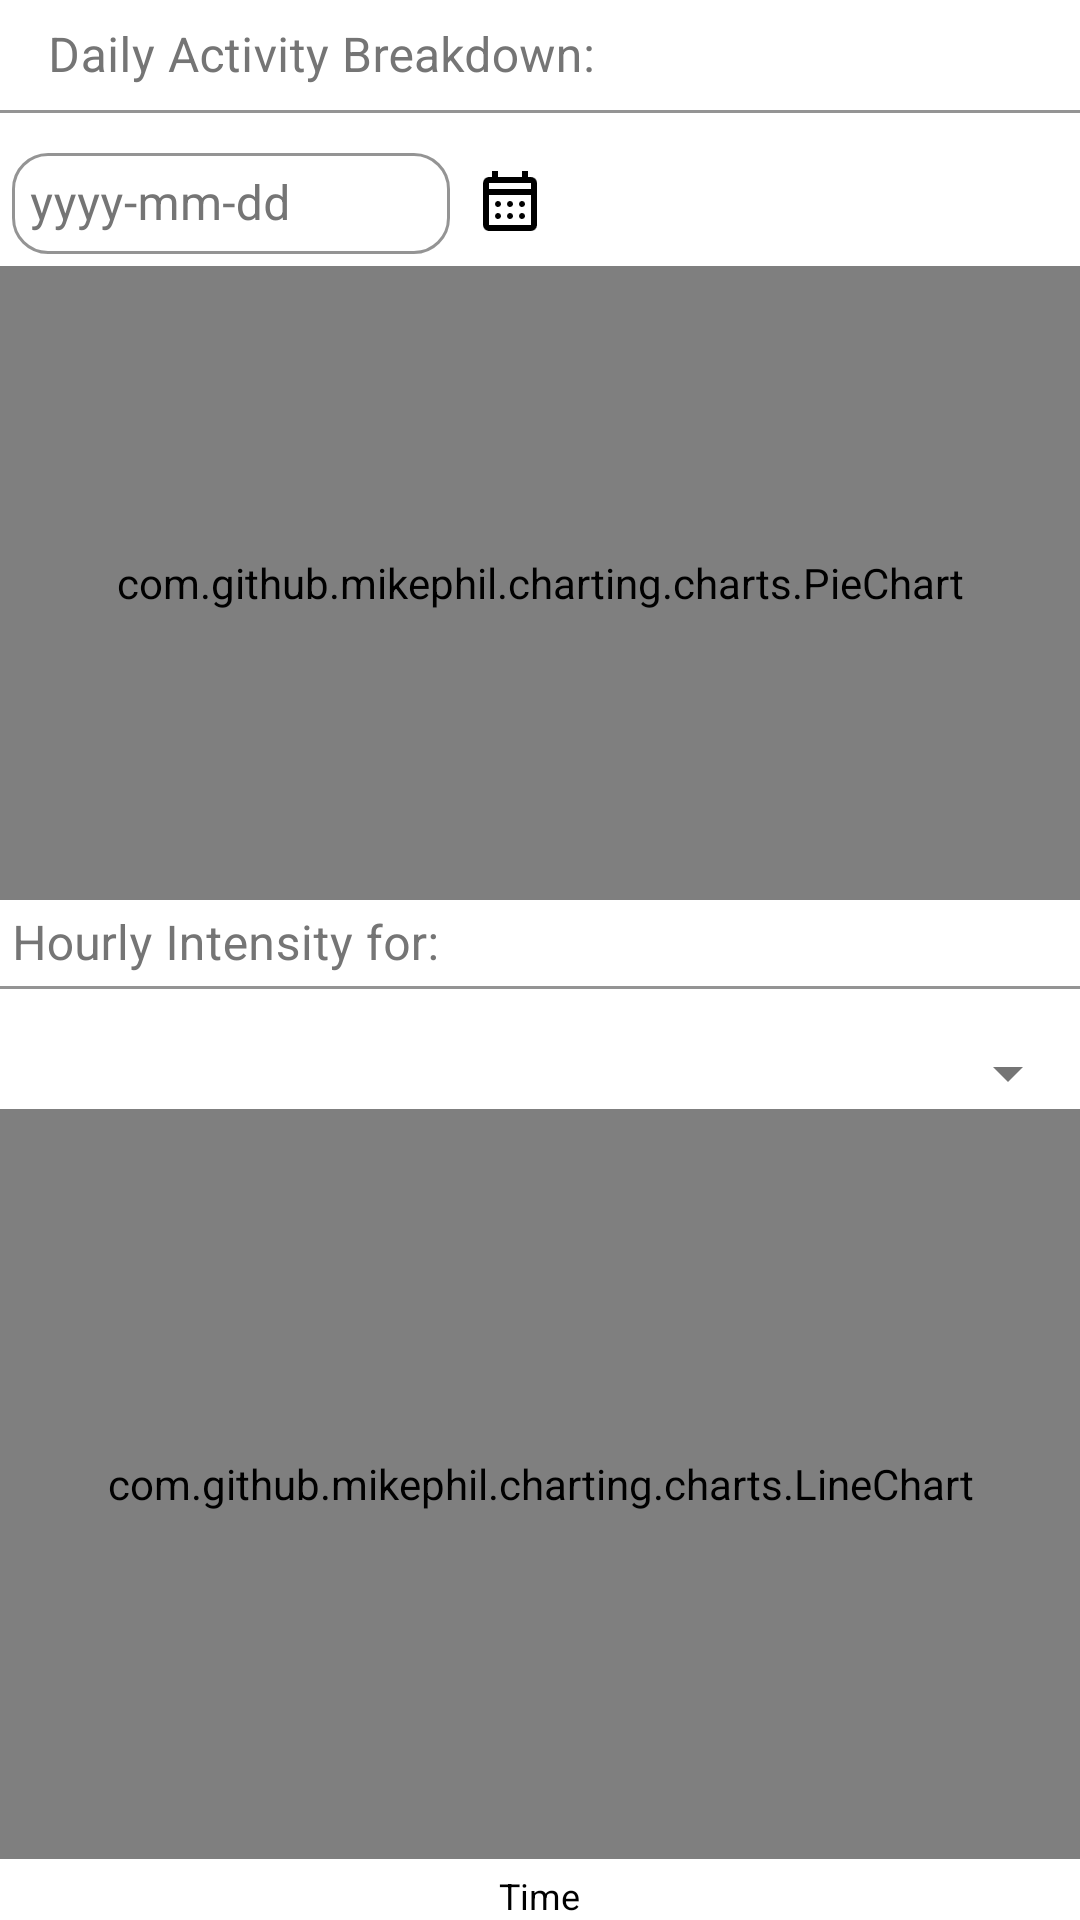

Where to tap for icons on this 1080×1920 app screen, as [x,y]:
Calendar Icon: [510,201]
